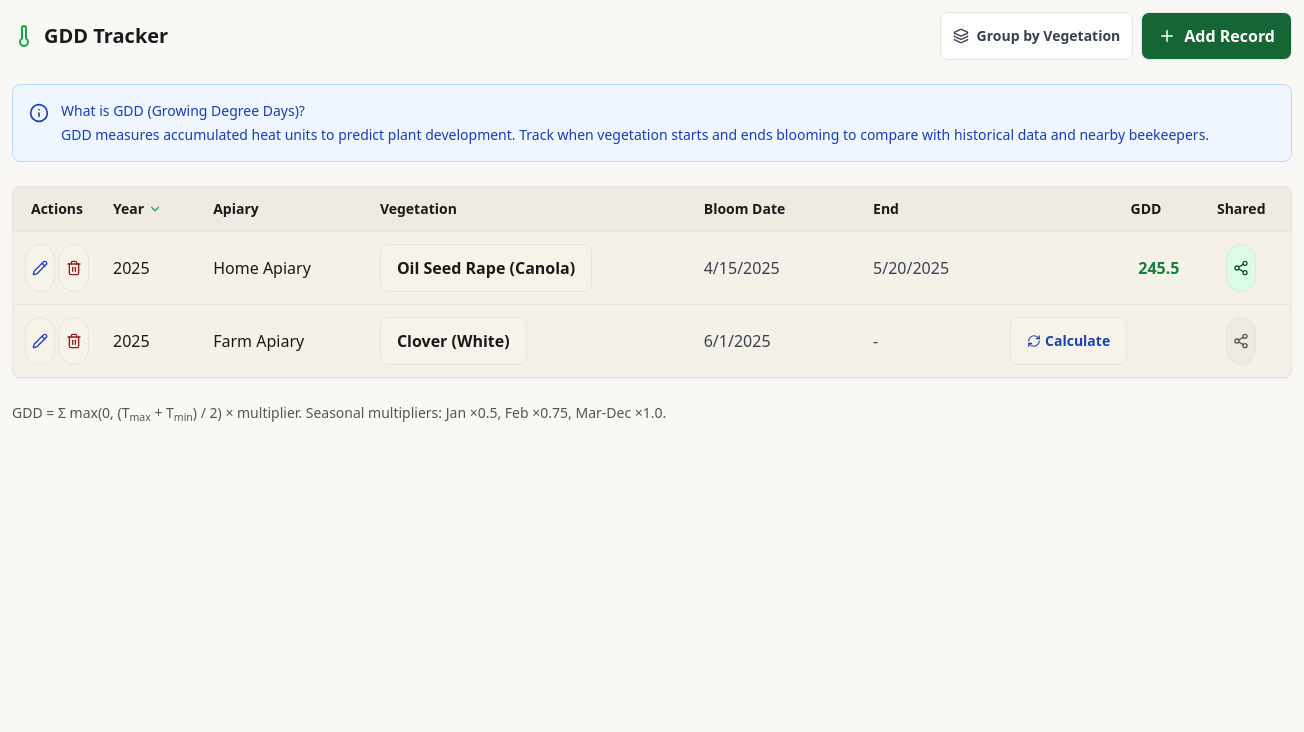
Test: GDDTracker › Add Record Form › opens the form with the current field labels
Click the button "Add Record". click: (1217, 36)
box: 1141,12 -> 1292,60
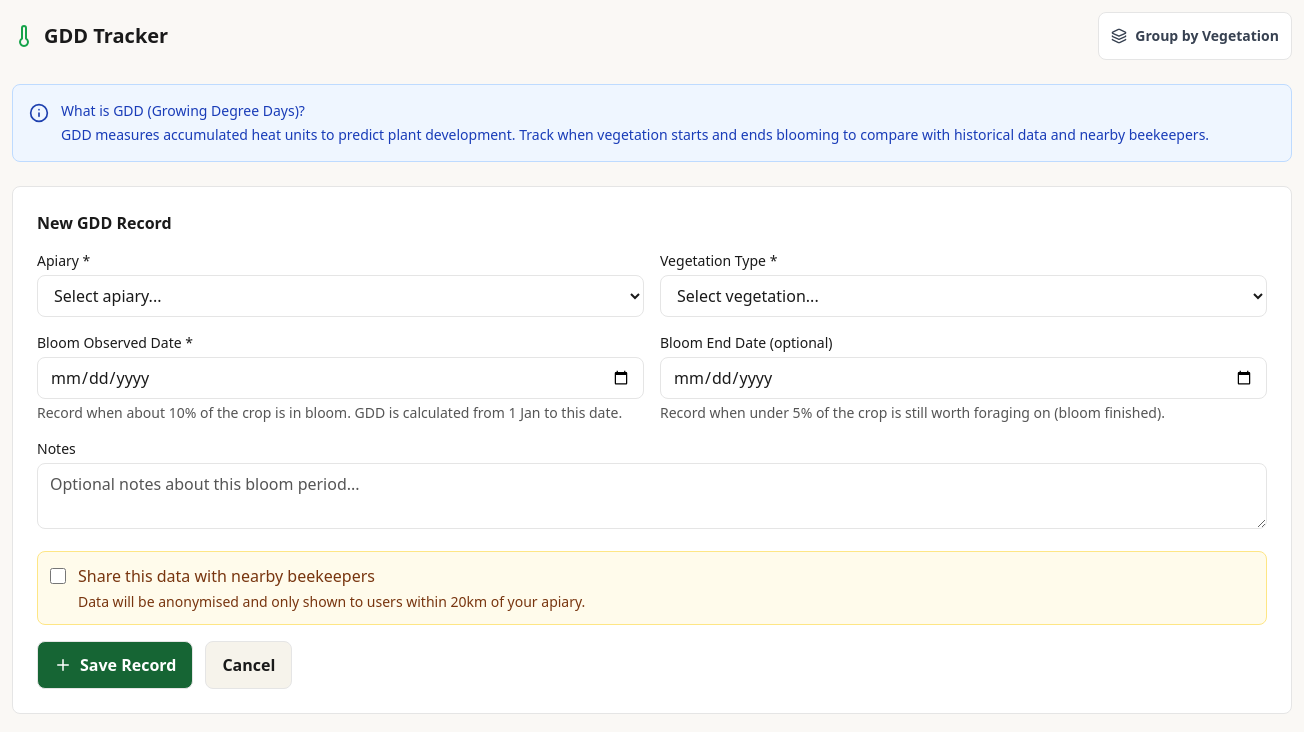
Expected: the heading "New GDD Record" is shown, 37,212 -> 172,234
Expected: the text "Apiary *" is shown, 37,251 -> 90,270
Expected: the text "Vegetation Type *" is shown, 660,251 -> 777,270
